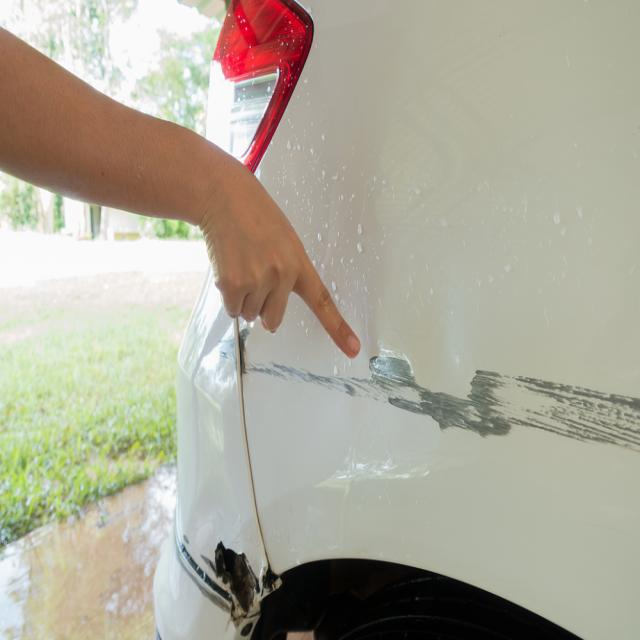crack: (213, 538, 256, 627)
scratch: (239, 328, 640, 457)
